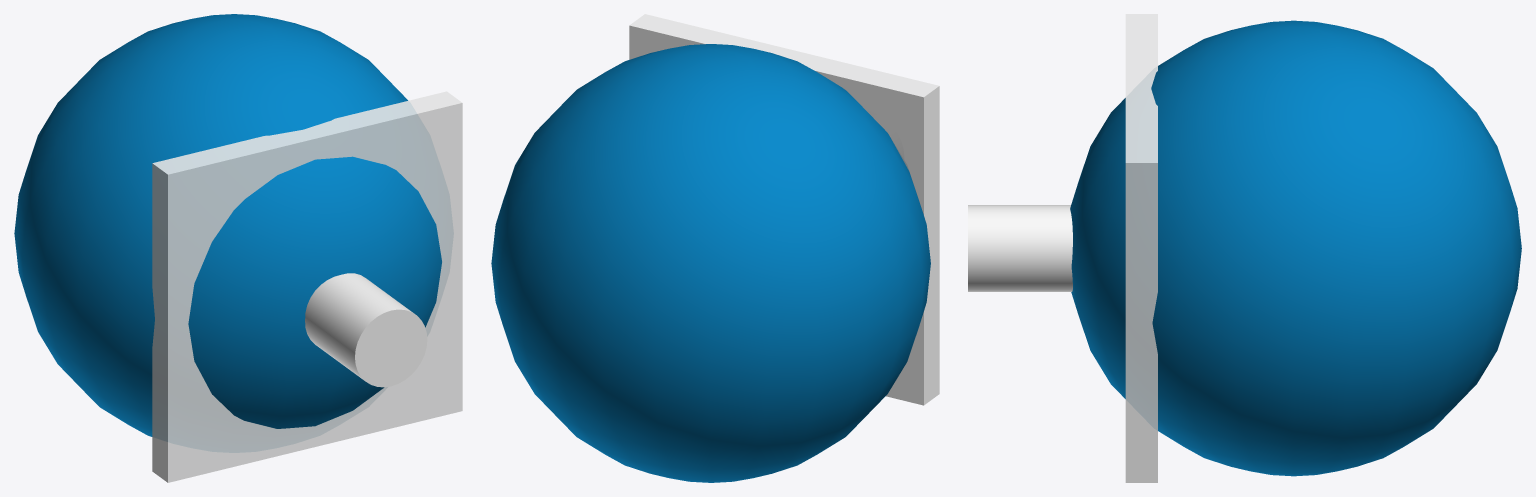
Rendered from dishwasher-water-drain.glb.
3 renders of one model, left to right at view 1: azimuth 30°, elevation 25°; view 2: azimuth 150°, elevation 25°; view 3: azimuth 270°, elevation 25°, orthographic. The views are drawn at different scales.
Parts seen in each view (by area): view 1: dishwasher-water-drain; view 2: dishwasher-water-drain; view 3: dishwasher-water-drain.
Boxes of the visible parts, x1,y1,x2,y2 form: dishwasher-water-drain: (14,14,462,482); dishwasher-water-drain: (491,14,939,482); dishwasher-water-drain: (968,14,1521,482).
Size of the model in its own units: 0.84 by 0.84 by 1.02.
